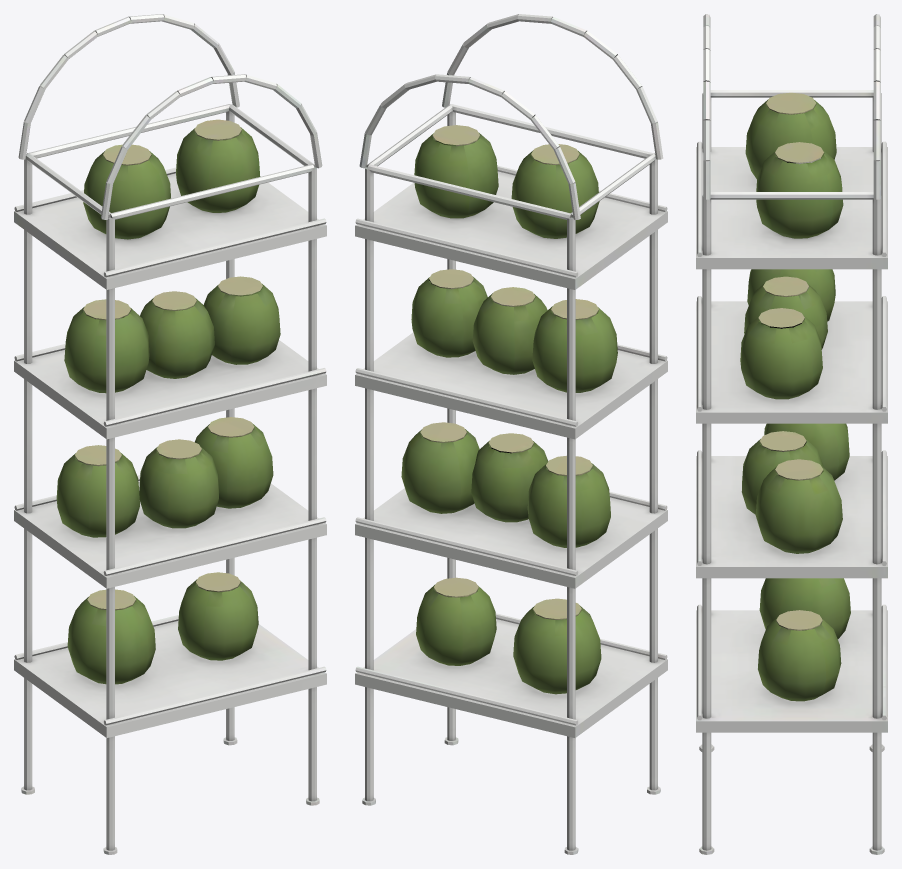
The model's file is coconut_rack.glb.
3 views of the same model, side by side, from view 1: azimuth 30°, elevation 25°; view 2: azimuth 150°, elevation 25°; view 3: azimuth 270°, elevation 25° (orthographic). The views are drawn at different scales.
Parts seen in each view (by area): view 1: coconut_rack; view 2: coconut_rack; view 3: coconut_rack.
Boxes of the visible parts, x1,y1,x2,y2 form: coconut_rack: (14, 14, 326, 854); coconut_rack: (355, 14, 667, 854); coconut_rack: (696, 14, 887, 854).
Size of the model in its own units: 0.7414 by 2.41 by 0.54.
1 material, 1 textured.
